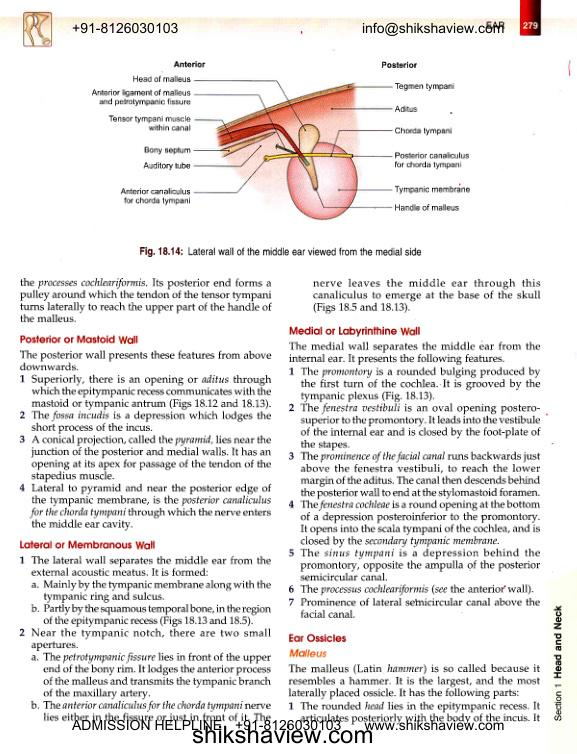caption: (139, 245, 422, 258)
image: (85, 52, 479, 227)
list: (287, 366, 542, 620), (18, 553, 273, 723), (17, 372, 273, 532), (310, 276, 542, 315), (287, 701, 542, 724)
sub-section-heading: (288, 325, 420, 338), (19, 539, 156, 551), (18, 333, 139, 345), (288, 632, 347, 644), (288, 648, 329, 659)
text: (18, 275, 273, 325), (287, 663, 541, 699), (287, 340, 541, 365), (19, 348, 272, 372)
